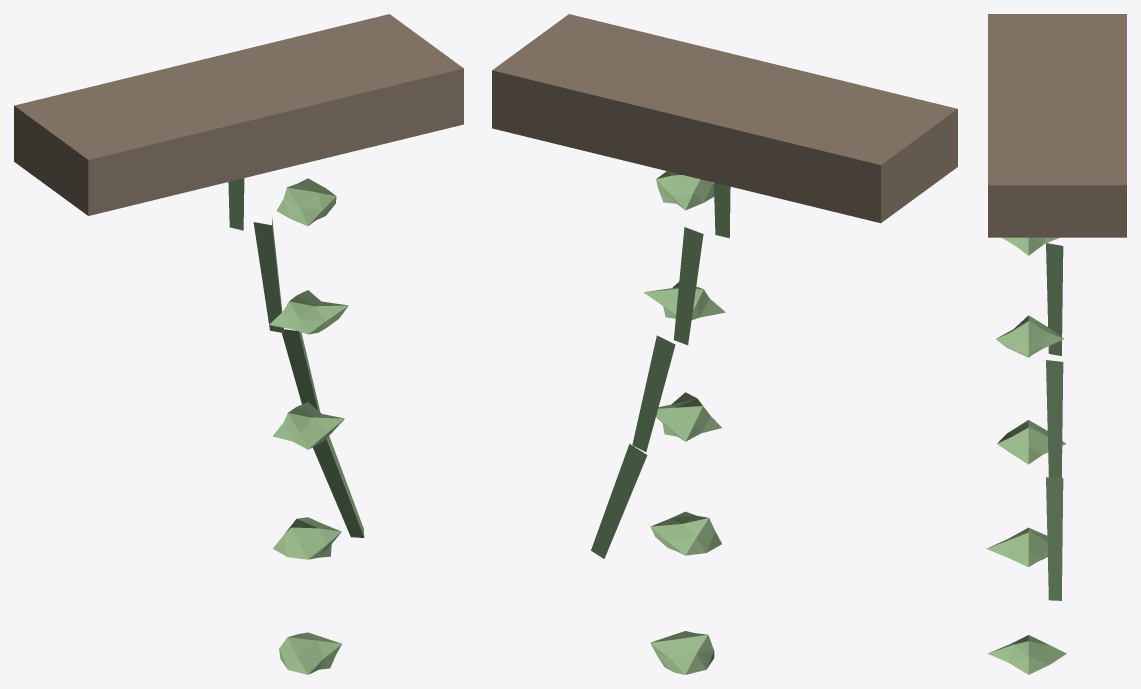
The model's file is vine_v05.glb.
3 views of the same model, side by side, from view 1: azimuth 30°, elevation 25°; view 2: azimuth 150°, elevation 25°; view 3: azimuth 270°, elevation 25° (orthographic). The views are drawn at different scales.
Visible parts, largest first — view 1: lod0; view 2: lod0; view 3: lod0.
Part boxes in pixels (x1=…): lod0: x1=14, y1=14, x2=463, y2=674; lod0: x1=492, y1=14, x2=957, y2=674; lod0: x1=986, y1=14, x2=1126, y2=674.
Size of what is drawn, in the model's own units: 0.7 by 1.05 by 0.2435.
